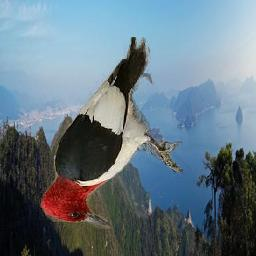Woodpecker: (37, 37, 183, 229)
